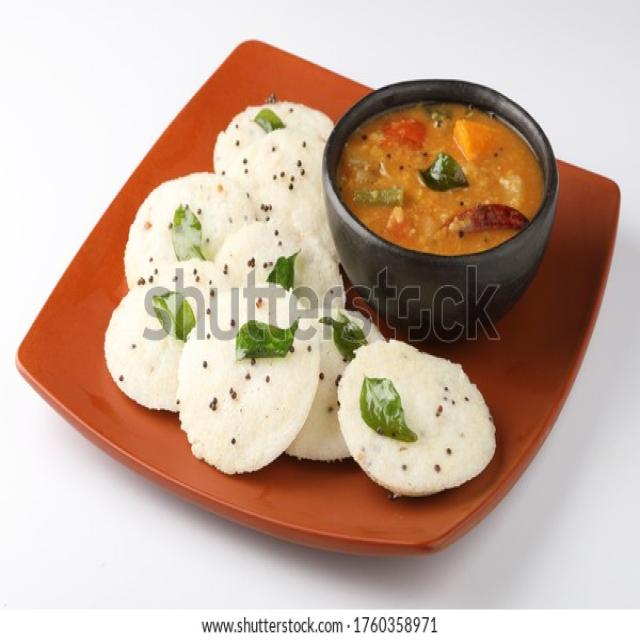IDLI: (175, 283, 317, 475), (341, 340, 498, 496), (103, 264, 224, 416), (123, 167, 283, 277), (217, 97, 331, 207), (231, 229, 346, 302)
